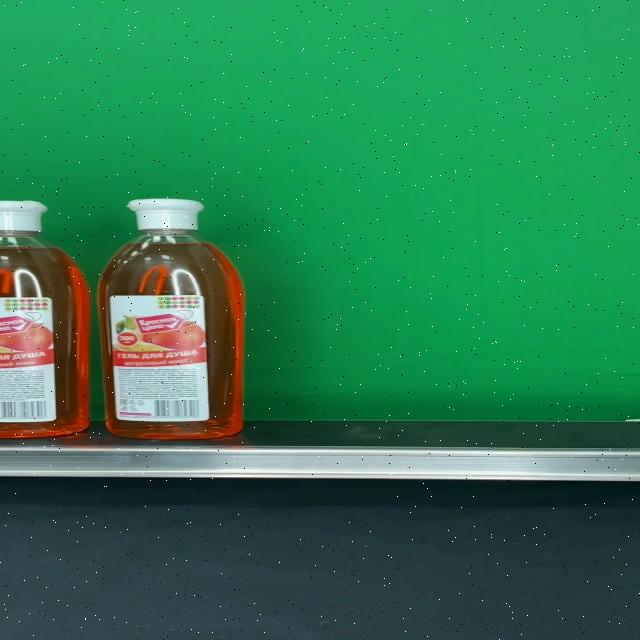Bottle: (98, 199, 244, 439)
Cap: (126, 199, 204, 231)
